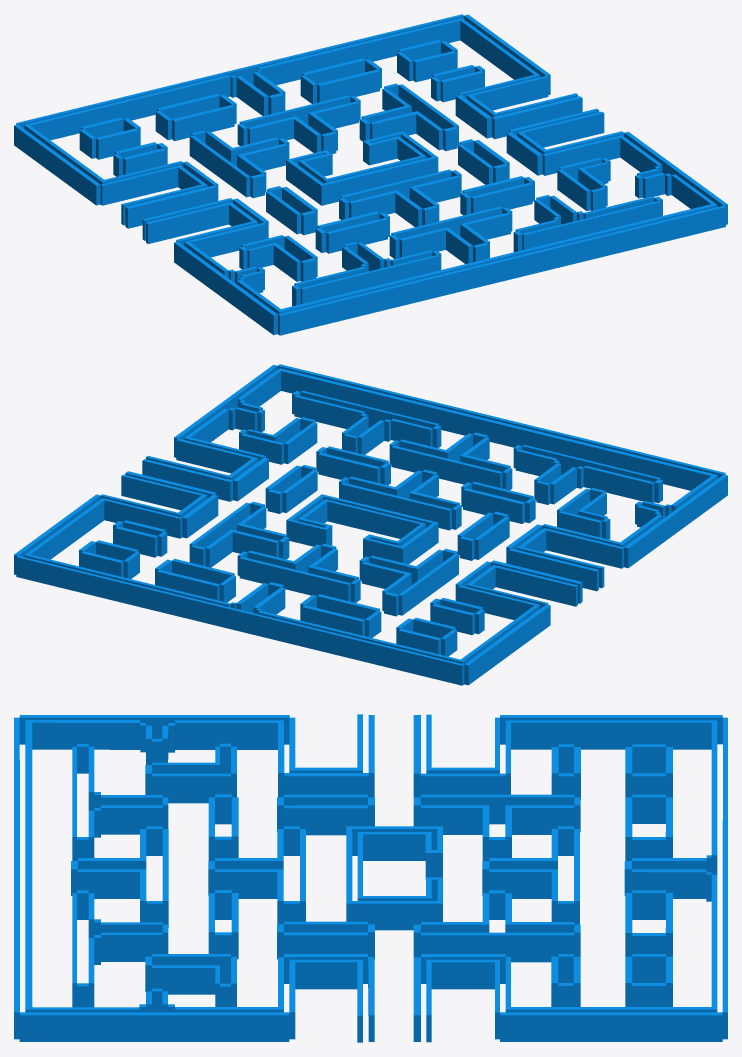
3 renders of one model, top to bottom at view 1: azimuth 30°, elevation 25°; view 2: azimuth 150°, elevation 25°; view 3: azimuth 270°, elevation 25°, orthographic. The views are drawn at different scales.
Parts seen in each view (by area): view 1: PacMan.028, PacMan.023, PacMan.018, PacMan.026, PacMan.025, PacMan.021, PacMan.030, PacMan.015, PacMan.020, PacMan.016, PacMan.017, PacMan.014 (+18 smaller); view 2: PacMan.023, PacMan.028, PacMan.018, PacMan.016, PacMan.025, PacMan.026, PacMan.020, PacMan.030, PacMan.021, PacMan.017, PacMan.015, PacMan.011 (+18 smaller); view 3: PacMan.027, PacMan.029, PacMan.024, PacMan.018, PacMan.022, PacMan.023, PacMan.011, PacMan.013, PacMan.020, PacMan.015, PacMan.016, PacMan.017 (+18 smaller).
Part boxes in pixels (<box>): PacMan.028: <box>273,204,725,335</box>; PacMan.023: <box>16,14,464,140</box>; PacMan.018: <box>286,131,438,205</box>; PacMan.026: <box>506,108,624,175</box>; PacMan.025: <box>455,75,582,139</box>; PacMan.021: <box>100,161,218,228</box>; PacMan.030: <box>142,198,268,257</box>; PacMan.015: <box>389,206,512,263</box>; PacMan.020: <box>513,195,662,251</box>; PacMan.016: <box>292,242,441,306</box>; PacMan.017: <box>237,95,360,154</box>; PacMan.014: <box>339,169,461,226</box>; PacMan.023: <box>16,554,464,685</box>; PacMan.028: <box>277,364,725,490</box>; PacMan.018: <box>286,494,438,564</box>; PacMan.016: <box>513,444,662,504</box>; PacMan.025: <box>100,471,218,538</box>; PacMan.026: <box>142,437,268,501</box>; PacMan.020: <box>292,390,441,454</box>; PacMan.030: <box>506,524,623,591</box>; PacMan.021: <box>455,560,582,619</box>; PacMan.017: <box>237,543,360,602</box>; PacMan.015: <box>389,432,512,490</box>; PacMan.011: <box>359,548,458,616</box>; PacMan.027: <box>14,988,289,1041</box>; PacMan.029: <box>19,715,289,764</box>; PacMan.024: <box>495,1007,722,1041</box>; PacMan.018: <box>346,826,442,930</box>; PacMan.022: <box>500,715,722,749</box>; PacMan.023: <box>624,717,727,1039</box>; PacMan.011: <box>413,794,580,860</box>; PacMan.013: <box>413,890,580,962</box>; PacMan.020: <box>72,890,168,1007</box>; PacMan.015: <box>71,826,168,927</box>; PacMan.016: <box>72,744,168,860</box>; PacMan.017: <box>482,826,579,924</box>.
Bounding box in the file's own units: 10523 × 438 × 10533.
